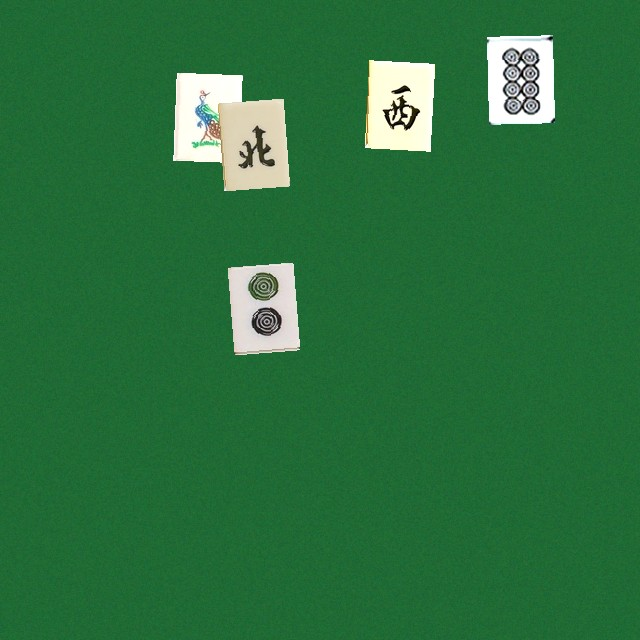tile: (173, 72, 239, 160), (364, 60, 430, 148), (227, 262, 293, 350), (486, 35, 552, 123), (217, 98, 283, 186)
